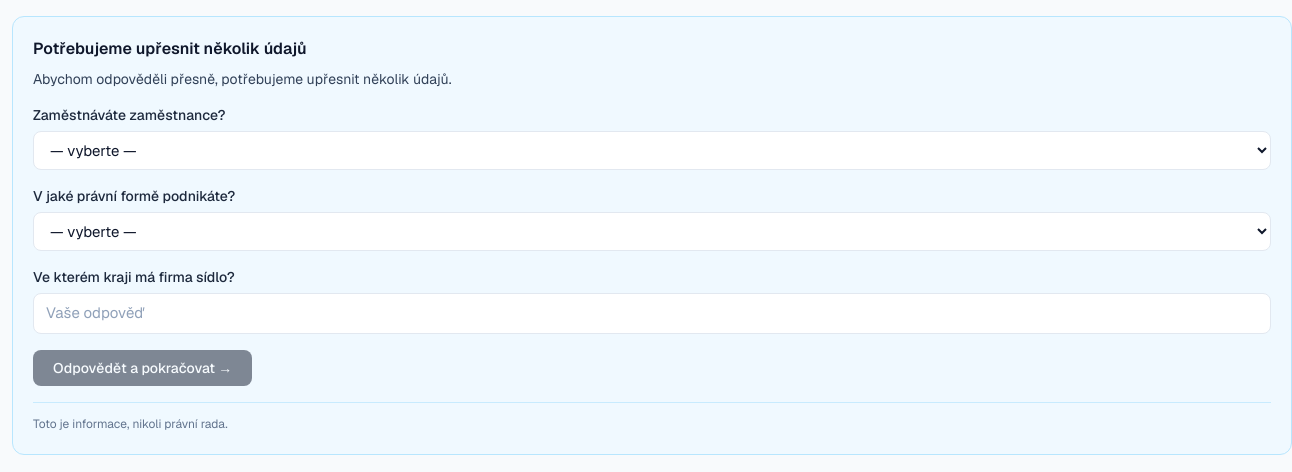
Test: clarify round-trip UI (E12) › filling + submitting re-POSTs the SAME query with slots; second answer renders in place
# Answer the two enum (select) questions + the free-text (region) question.
Select "Ano" in the dropdown labelled "Zaměstnáváte zaměstnance?" at (652, 150), box [33,131,1271,170]
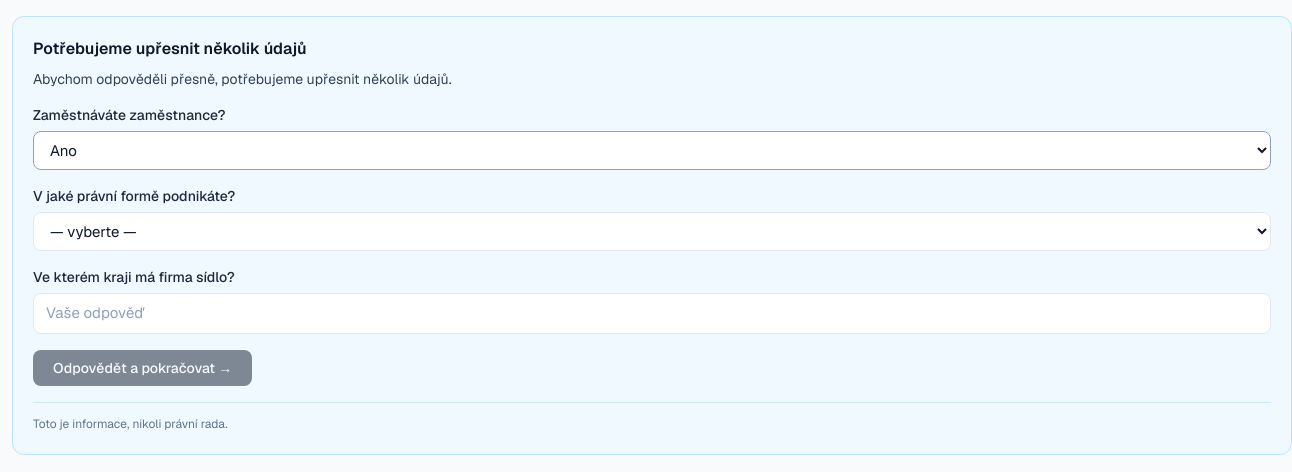
Select "s.r.o." in the dropdown labelled "V jaké právní formě podnikáte?" at (652, 232), box [33,212,1271,251]
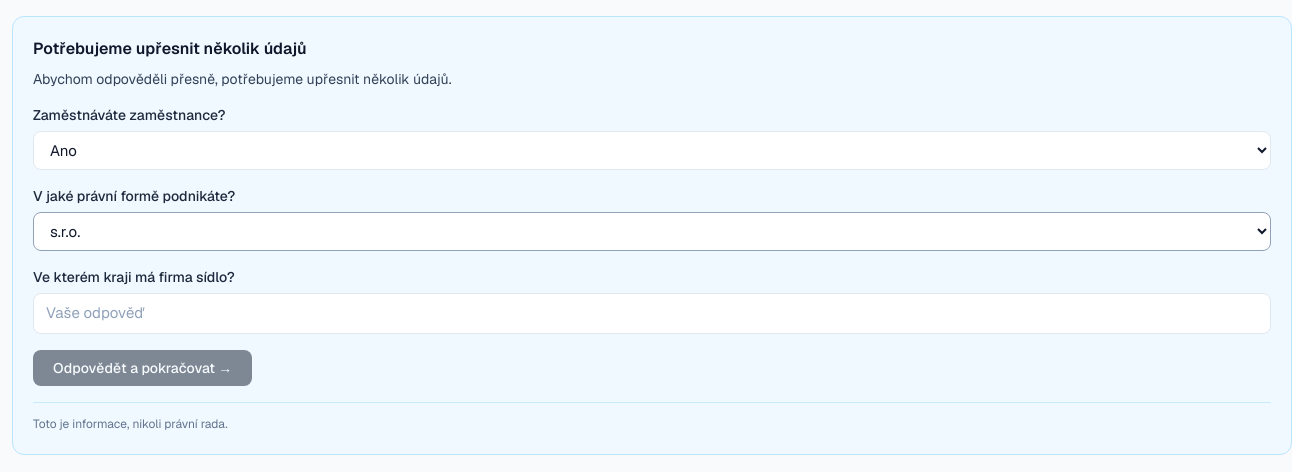
Type "Praha" into the field labelled "Ve kterém kraji má firma sídlo?" at (652, 313), box [33,293,1271,334]
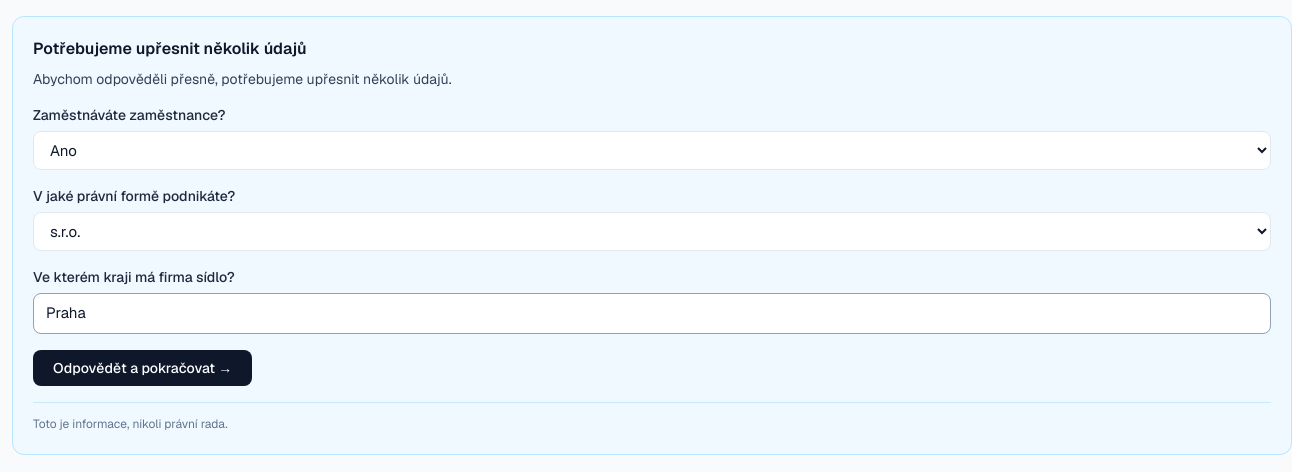
Click the button "Odpovědět a pokračovat →" at (143, 368), box [33,350,252,386]
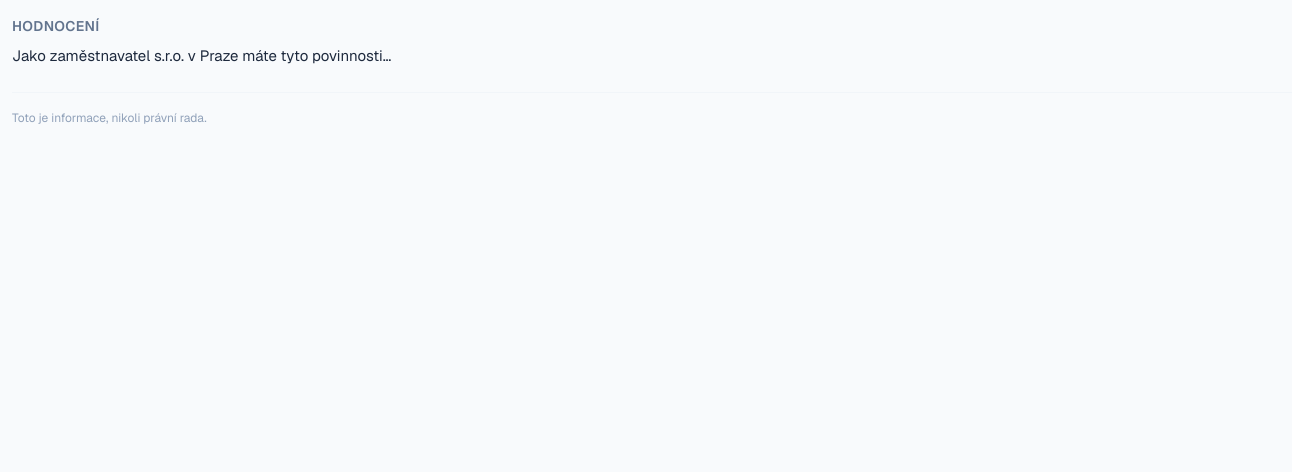
expect the text "Jako zaměstnavatel s.r.o. v Praze máte tyto povinnosti…" is shown: met, box [12,46,391,65]
expect the text "Zaměstnáváte zaměstnance?" is gone: met
